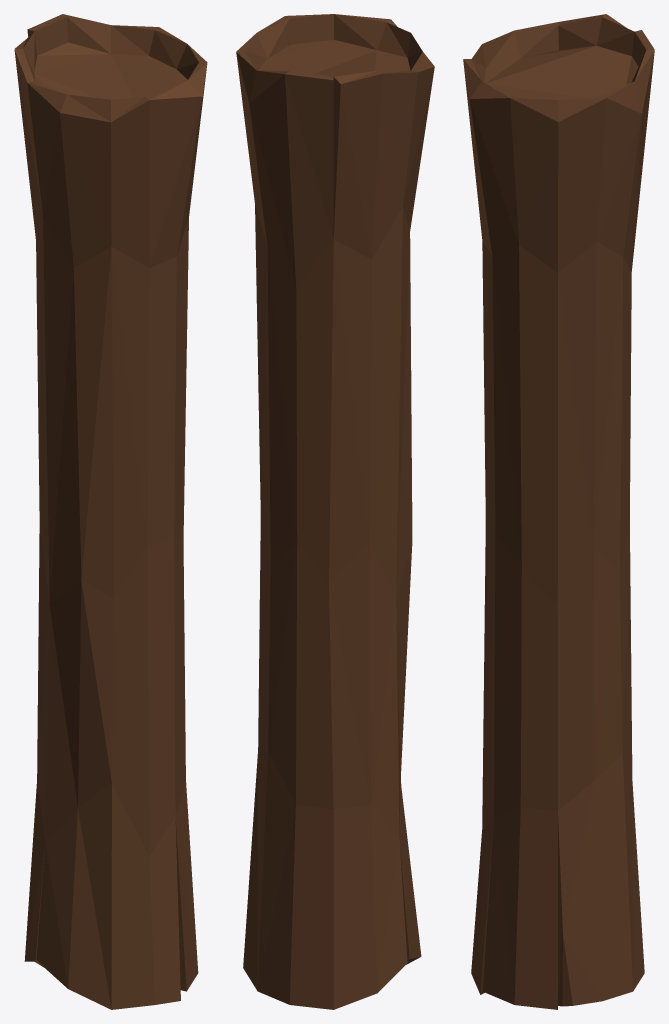
File: Trunk Wood_1.fbx
3 views of the same model, side by side, from view 1: azimuth 30°, elevation 25°; view 2: azimuth 150°, elevation 25°; view 3: azimuth 270°, elevation 25° (orthographic).
Visible parts, largest first — view 1: M_Trunk Wood 1; view 2: M_Trunk Wood 1; view 3: M_Trunk Wood 1.
Part boxes in pixels (<box>): M_Trunk Wood 1: <box>14,14,207,1009</box>; M_Trunk Wood 1: <box>236,14,434,1009</box>; M_Trunk Wood 1: <box>463,14,654,1009</box>.
Bounding box in the file's own units: 0.1544 × 0.8216 × 0.1533.
1 material, 1 textured.
